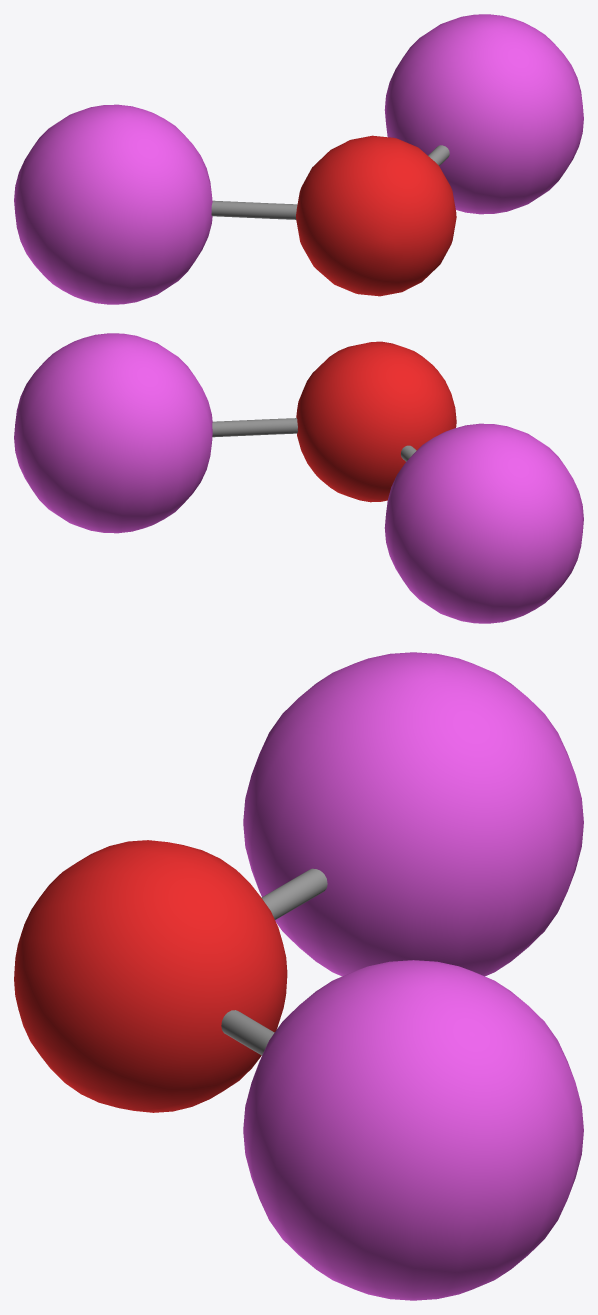
3 views of the same model, one above another, from view 1: azimuth 30°, elevation 25°; view 2: azimuth 150°, elevation 25°; view 3: azimuth 270°, elevation 25° (orthographic). The views are drawn at different scales.
Parts seen in each view (by area): view 1: Li2O; view 2: Li2O; view 3: Li2O.
Part boxes in pixels (x1,y1,x2,y2): Li2O: (14,14,583,304); Li2O: (14,333,583,623); Li2O: (14,652,583,1300).
Bounding box in the file's own units: 7.22 × 2.3 × 3.85.
